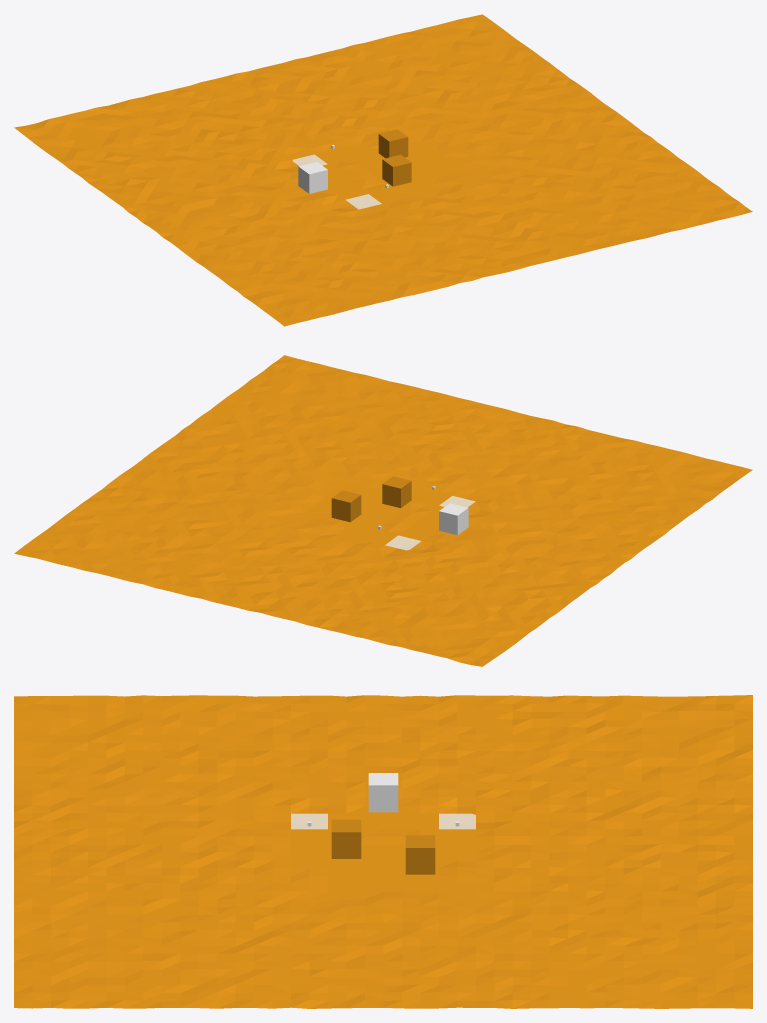
The picture shows the model from 3 angles, top to bottom: view 1: azimuth 30°, elevation 25°; view 2: azimuth 150°, elevation 25°; view 3: azimuth 270°, elevation 25°; orthographic projection. The views are drawn at different scales.
Visible parts, largest first — view 1: Plane, Enemy0, Block, Enemy1; view 2: Plane, Enemy1, Enemy0, Block; view 3: Plane, Enemy1, Block, Enemy0, Tile1_0, Tile1_4.
Boxes of the visible parts, <box> form: Plane: <box>14,14,752,326</box>; Enemy0: <box>382,154,411,186</box>; Block: <box>298,162,327,193</box>; Enemy1: <box>378,129,408,158</box>; Plane: <box>14,355,752,666</box>; Enemy1: <box>331,490,361,522</box>; Enemy0: <box>382,476,411,508</box>; Block: <box>439,503,468,535</box>; Plane: <box>14,695,752,1008</box>; Enemy1: <box>405,835,435,874</box>; Block: <box>368,773,398,812</box>; Enemy0: <box>331,819,361,858</box>; Tile1_0: <box>291,813,327,829</box>; Tile1_4: <box>439,813,475,829</box>.
Bounding box in the file's own units: 20 × 20 × 0.8354.
